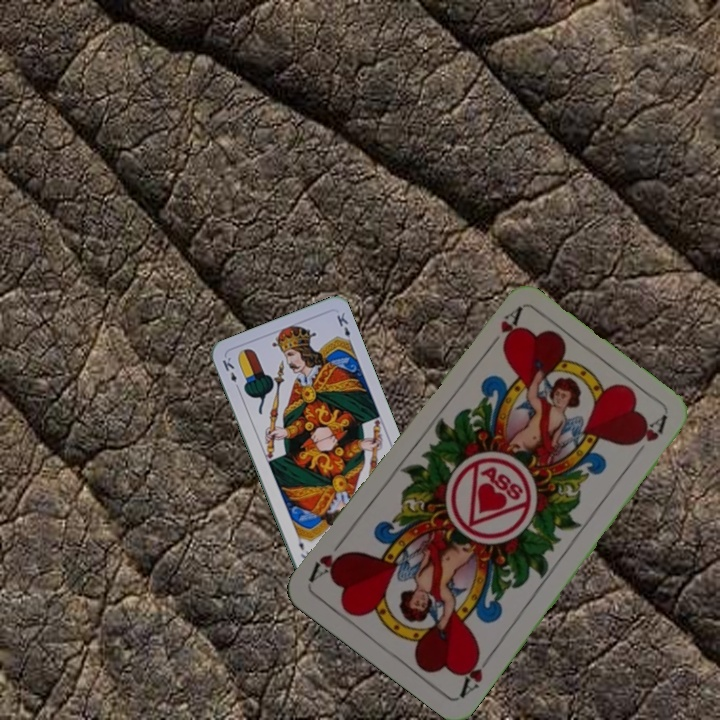EK: (218, 353, 242, 393)
HA: (455, 647, 496, 700), (481, 305, 524, 355)
